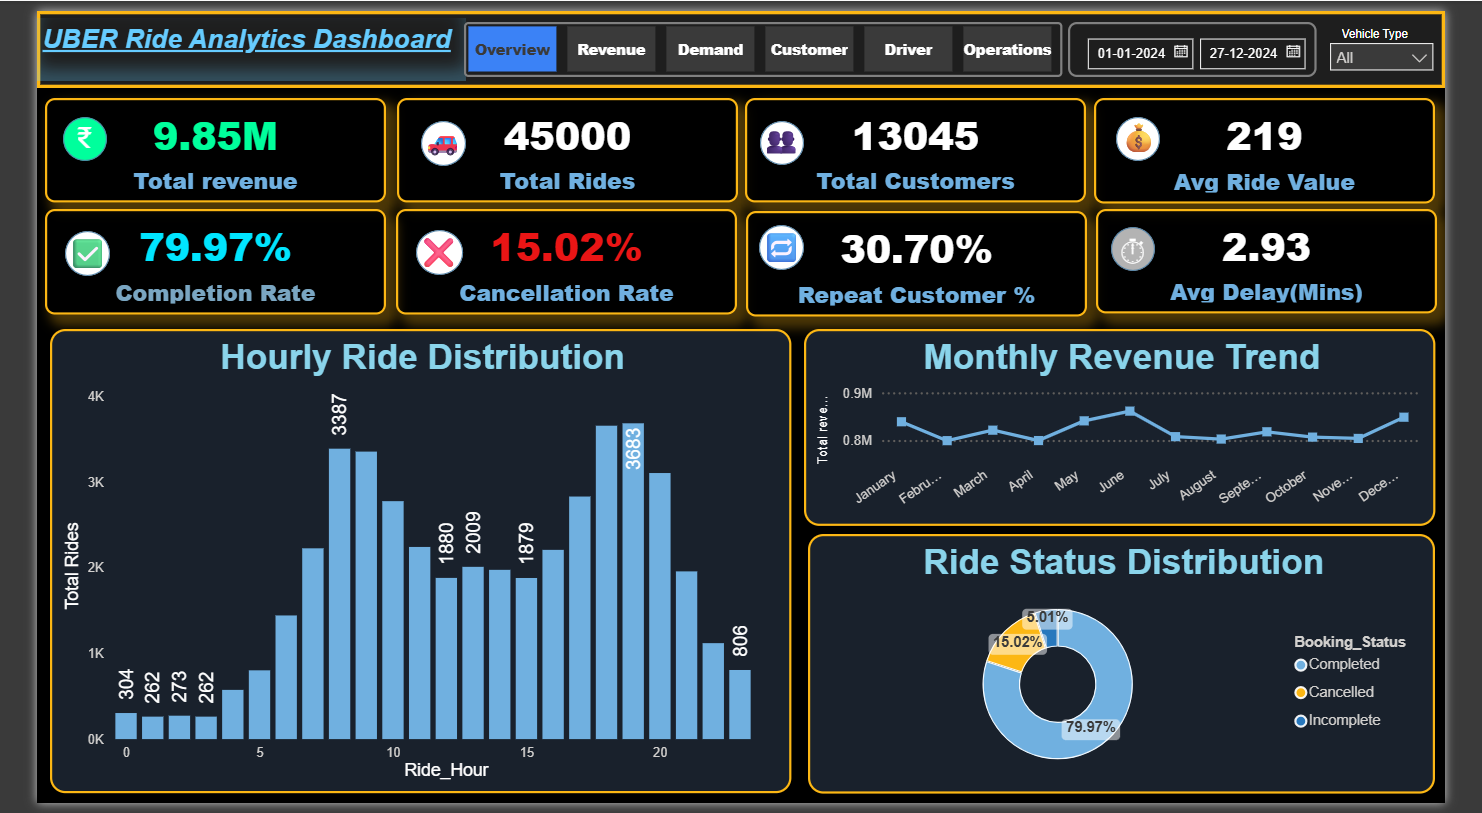

The dashboard page shown, as its layout file describes it:
{"tool":"powerbi","page":{"name":"Overview","canvas":[1280,720],"ordinal":0},"visuals":[{"type":"card","title":"Total Revenue","fields":{"Values":["All Measures.Total revenue"]},"box":[7.3,79.1,310,95.5],"z":0},{"type":"card","title":"Total Rides","fields":{"Values":["All Measures.Total Rides"]},"box":[326.9,79.1,310,95.5],"z":1000},{"type":"card","title":"Total Customers","fields":{"Values":["All Measures.Total Customer"]},"box":[643.6,79.1,310,95.5],"z":2000},{"type":"card","title":"Avg Ride Value","fields":{"Values":["All Measures.Avg Ride Value"]},"box":[960.9,79.1,310,96.4],"z":3000},{"type":"card","title":"Cancellation Rate %","fields":{"Values":["All Measures.Cancellation Rate"]},"box":[326.4,180,310,96.4],"z":4000},{"type":"card","title":"Repeat Customer %","fields":{"Values":["All Measures.Repeat Customer %"]},"box":[644.5,181.8,310,96.4],"z":5000},{"type":"card","title":"Completion Rate %","fields":{"Values":["All Measures.Completion Rate"]},"box":[7.3,180,310,96.4],"z":6000},{"type":"card","title":"Avg Delay (in mins)","fields":{"Values":["All Measures.Avg Delay"]},"box":[962.7,180,310,95.5],"z":7000},{"type":"lineChart","title":"Monthly Revenue Trend","fields":{"Y":["All Measures.Total revenue"],"Category":["Rides.Booking_Timestamp.Variation.Date Hierarchy.Month"]},"box":[697,289,574,179],"z":8000},{"type":"clusteredColumnChart","title":"Hourly Ride Distribution","fields":{"Y":["All Measures.Total Rides"],"Category":["Rides.Ride_Hour"]},"box":[11.8,289.1,673.6,421.8],"z":9000},{"type":"donutChart","title":"Ride Status Distribution","fields":{"Category":["Rides.Booking_Status"],"Y":["All Measures.Total Rides"]},"box":[701,475,570,236],"z":10000},{"type":"shape","box":[0,0,1280,70],"z":11000},{"type":"slicer","fields":{"Values":["Rides.Booking_Timestamp"]},"box":[937.3,10,226.4,50],"z":12000},{"type":"textbox","box":[0,6.4,390,57.3],"z":13000},{"type":"pageNavigator","box":[388.2,10,543.6,50],"z":14000},{"type":"slicer","fields":{"Values":["Vehicles.Vehicle_Type"]},"box":[1165,19,114,66],"z":15000},{"type":"textbox","box":[1181,7,80,25],"z":16000},{"type":"group","id":"g1","title":"Group 1","box":[23.6,95.4,40,44.5],"z":17000},{"type":"shape","box":[23.6,96,40,40],"z":17000,"group":"g1"},{"type":"shape","box":[981,96.3,40,40],"z":17000,"group":"g3"},{"type":"shape","box":[349.1,99.9,40.9,40.9],"z":17000,"group":"g4"},{"type":"shape","box":[657.1,99.9,40,40],"z":17000,"group":"g2"},{"type":"shape","box":[656.4,194.5,40.9,40.9],"z":17000,"group":"g8"},{"type":"shape","box":[976.7,196,40,40],"z":17000,"group":"g6"},{"type":"shape","box":[345,198.6,42.9,40.9],"z":17000,"group":"g7"},{"type":"shape","box":[25,200.4,40.9,40.9],"z":17000,"group":"g5"},{"type":"textbox","box":[978.3,90.9,48.2,50.9],"z":18000,"group":"g3"},{"type":"group","id":"g2","title":"Group 3","box":[653.5,91.8,48.2,50.9],"z":18000},{"type":"textbox","box":[653.5,91.8,48.2,50.9],"z":18000,"group":"g2"},{"type":"textbox","box":[30.7,95.4,28.2,44.5],"z":18000,"group":"g1"},{"type":"textbox","box":[345.5,95.4,57.3,47.3],"z":18000,"group":"g4"},{"type":"textbox","box":[653.6,190.9,57.3,47.3],"z":18000,"group":"g8"},{"type":"textbox","box":[979,194.3,42.7,48.2],"z":18000,"group":"g6"},{"type":"textbox","box":[342,195,60,47.3],"z":18000,"group":"g7"},{"type":"textbox","box":[22.7,196.4,57.3,47.3],"z":18000,"group":"g5"},{"type":"group","id":"g3","title":"Group 4","box":[978.3,90.9,48.2,50.9],"z":19000},{"type":"group","id":"g4","title":"Group 2","box":[345.5,95.4,57.3,47.3],"z":20000},{"type":"group","id":"g5","title":"Group 5","box":[22.7,196.4,57.3,47.3],"z":21000},{"type":"group","id":"g6","title":"Group 6","box":[976.7,194.3,45,48.2],"z":22000},{"type":"group","id":"g7","title":"Group 7","box":[342,195,60,47.3],"z":23000},{"type":"group","id":"g8","title":"Group 8","box":[653.6,190.9,57.3,47.3],"z":24000}]}

Visuals, with their boxes in screenshot pixels (x1, y1, x2, y2), scaled from the page's 1280x720 canvas onto the 1482x813 screenshot:
"Total Revenue" card: 8,89,367,197
"Total Rides" card: 378,89,737,197
"Total Customers" card: 745,89,1104,197
"Avg Ride Value" card: 1113,89,1471,198
"Cancellation Rate %" card: 378,203,737,312
"Repeat Customer %" card: 746,205,1105,314
"Completion Rate %" card: 8,203,367,312
"Avg Delay (in mins)" card: 1115,203,1474,311
"Monthly Revenue Trend" lineChart: 807,326,1472,528
"Hourly Ride Distribution" clusteredColumnChart: 14,326,794,803
"Ride Status Distribution" donutChart: 812,536,1472,803
shape: 0,0,1481,79
slicer - Rides.Booking_Timestamp: 1085,11,1347,68
textbox: 0,7,452,72
pageNavigator: 449,11,1079,68
slicer - Vehicles.Vehicle_Type: 1349,21,1481,96
textbox: 1367,8,1460,36
"Group 1" group: 27,108,74,158
shape: 27,108,74,154
shape: 1136,109,1182,154
shape: 404,113,452,159
shape: 761,113,807,158
shape: 760,220,807,266
shape: 1131,221,1177,266
shape: 399,224,449,270
shape: 29,226,76,272
textbox: 1133,103,1188,160
"Group 3" group: 757,104,812,161
textbox: 757,104,812,161
textbox: 36,108,68,158
textbox: 400,108,466,161
textbox: 757,216,823,269
textbox: 1133,219,1183,274
textbox: 396,220,465,274
textbox: 26,222,93,275
"Group 4" group: 1133,103,1188,160
"Group 2" group: 400,108,466,161
"Group 5" group: 26,222,93,275
"Group 6" group: 1131,219,1183,274
"Group 7" group: 396,220,465,274
"Group 8" group: 757,216,823,269
